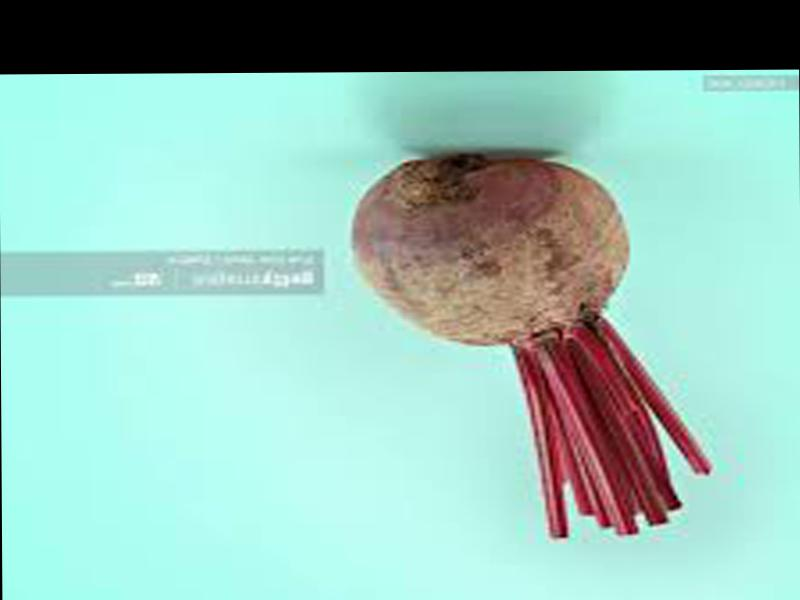Beet: (351, 152, 709, 535)
